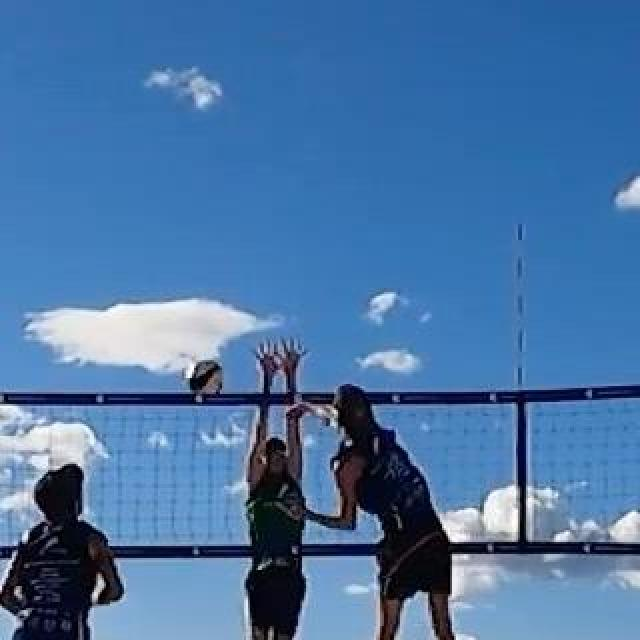volleyball: (186, 357, 222, 397)
